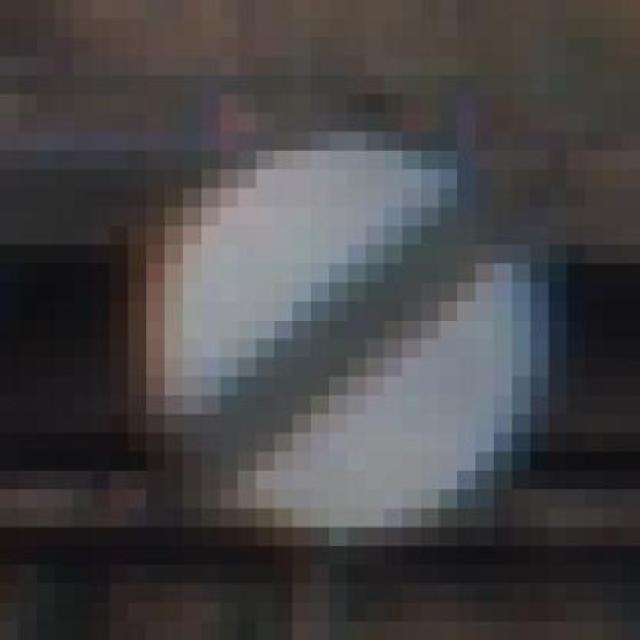End of all speed and passing limits: (128, 93, 568, 564)
